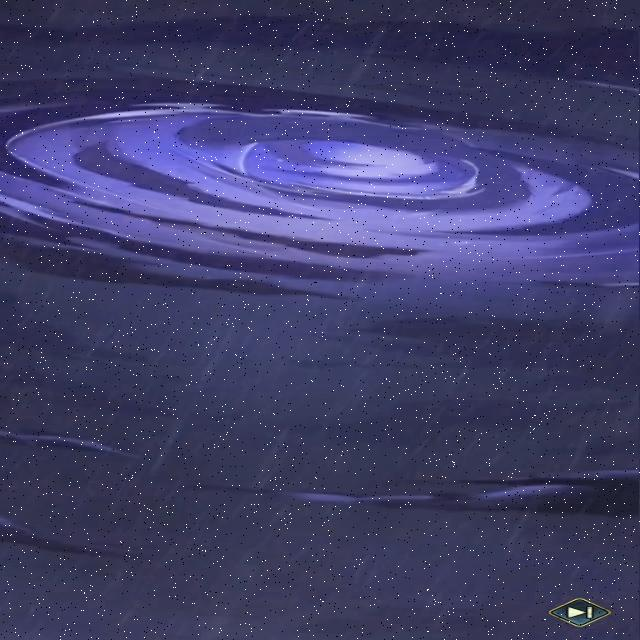system-skip: (551, 598, 609, 628)
